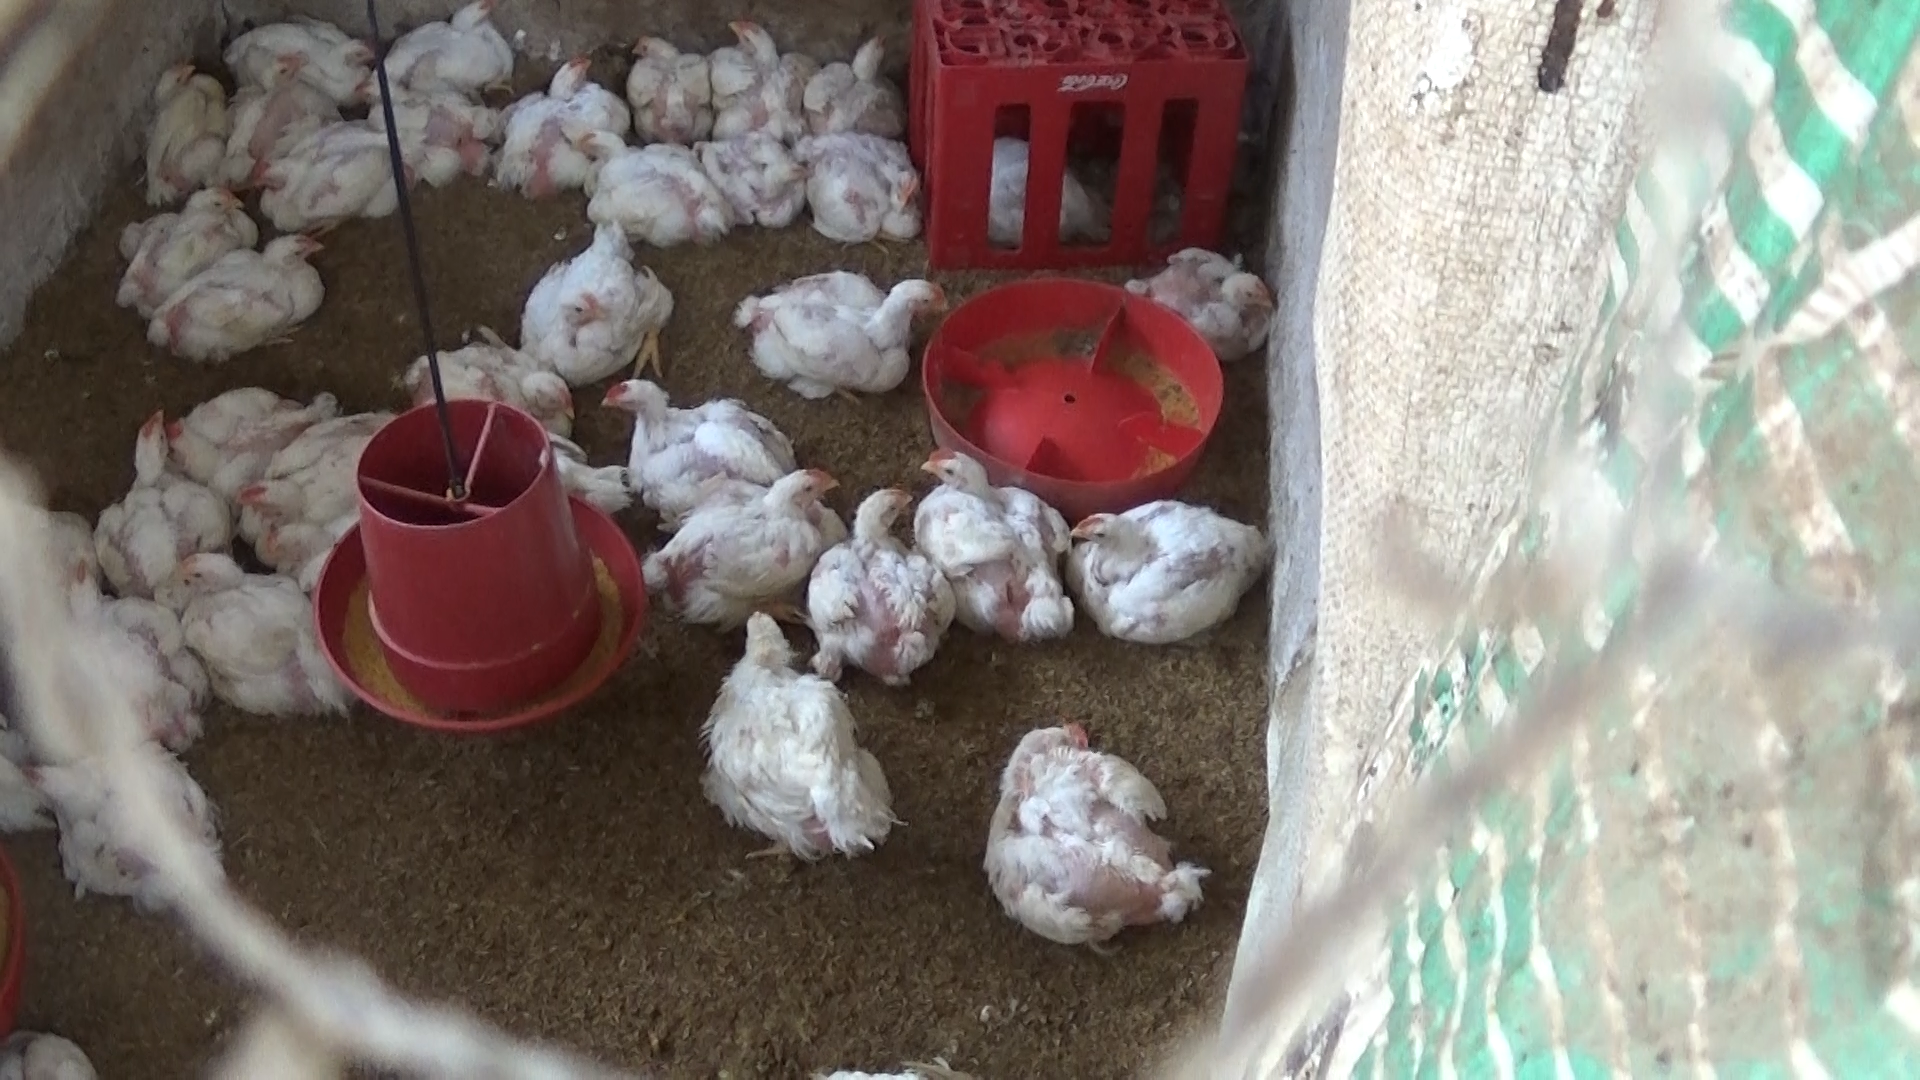Pollos: (688, 593, 893, 876), (985, 719, 1215, 968), (167, 545, 340, 735), (585, 368, 800, 512), (1065, 497, 1269, 646), (913, 448, 1071, 640), (735, 258, 951, 397), (634, 462, 847, 601), (237, 392, 400, 574), (806, 487, 951, 688), (145, 223, 336, 367), (105, 396, 233, 601), (514, 222, 671, 377), (145, 367, 322, 502), (252, 100, 419, 227), (100, 178, 262, 309), (495, 46, 632, 198), (566, 119, 736, 239), (401, 342, 580, 438), (1127, 241, 1282, 349), (367, 0, 524, 104), (800, 128, 936, 243), (136, 51, 231, 208), (220, 8, 372, 100), (214, 49, 316, 179), (702, 105, 806, 232), (800, 32, 915, 146), (707, 15, 806, 137), (615, 24, 725, 132)
